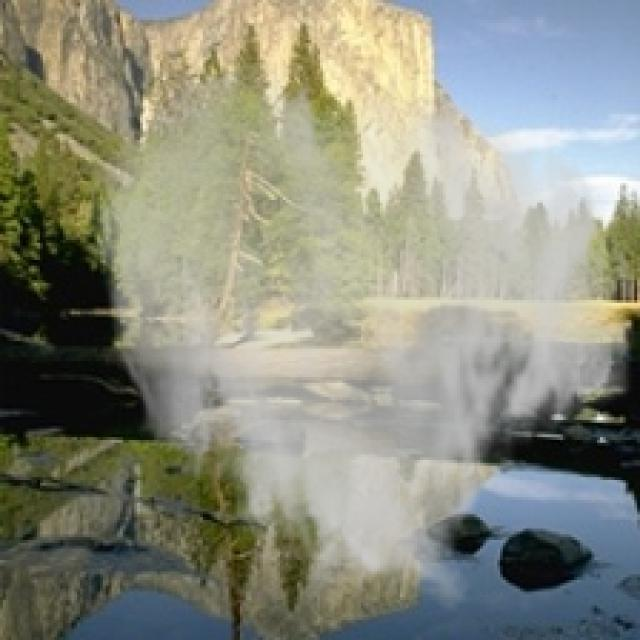Smoke: (82, 57, 638, 617)
